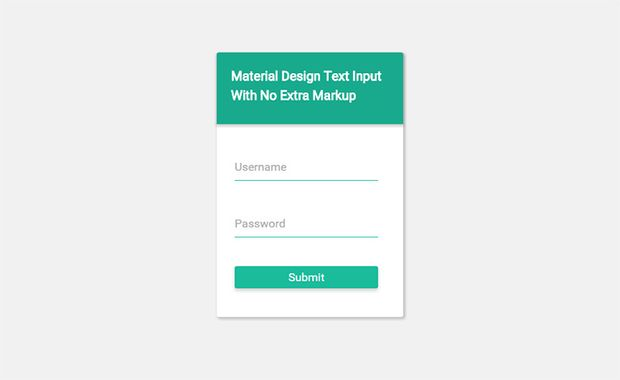button: (234, 265, 378, 289)
field_line: (233, 159, 380, 182), (233, 217, 379, 239)
